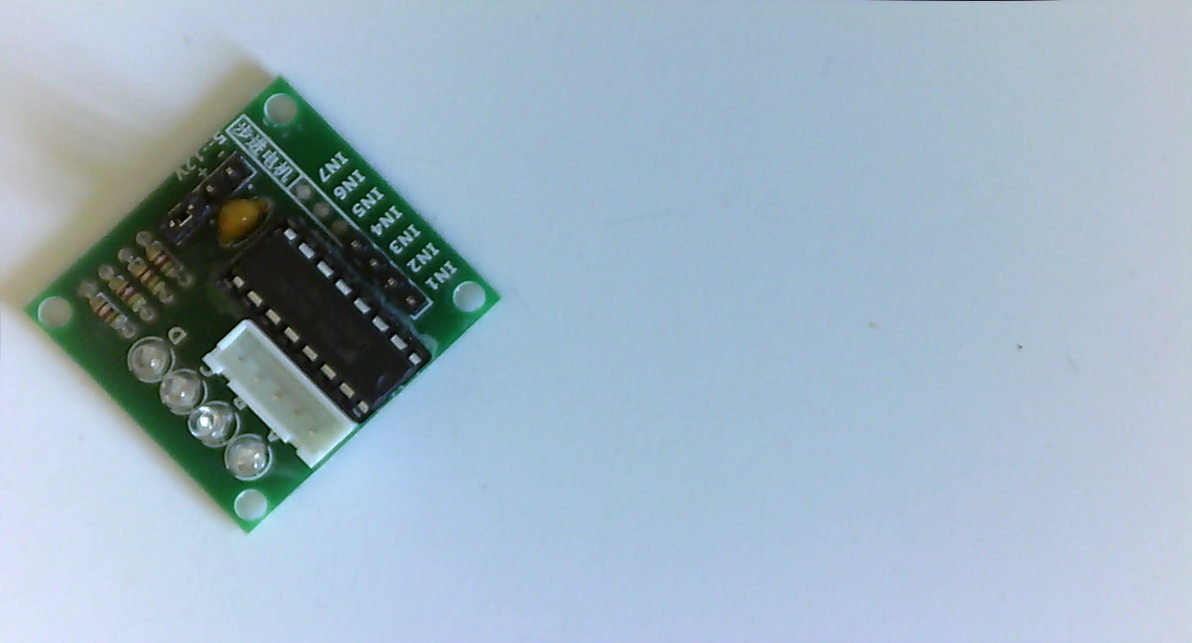IC: (228, 270, 425, 371)
LED: (183, 404, 234, 448), (224, 439, 272, 485), (159, 367, 202, 413), (126, 339, 172, 379)
capacitor: (217, 195, 268, 247)
connector: (195, 362, 367, 432), (154, 173, 256, 218), (364, 220, 405, 320)
resistor: (93, 277, 129, 347), (145, 227, 177, 291), (115, 260, 143, 328), (135, 240, 158, 313)
